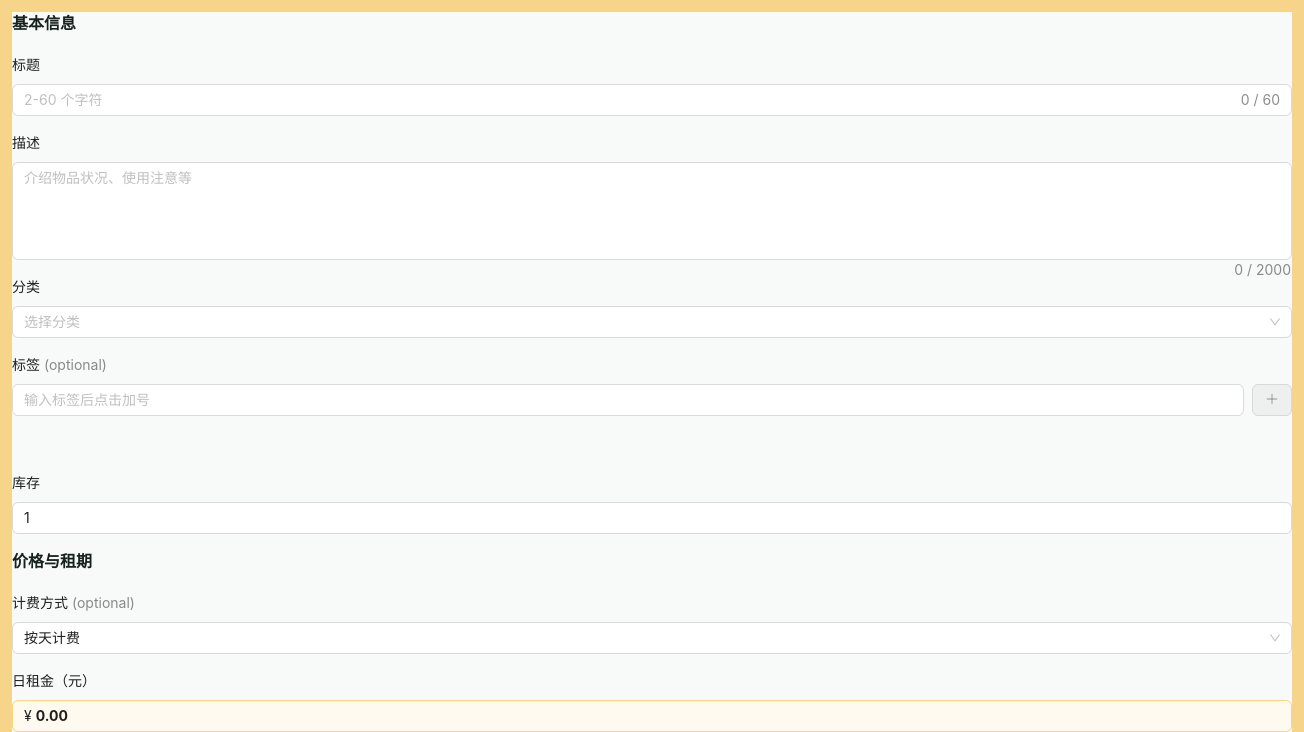
Test: ItemForm › shows status=0 categories as selectable and hides status=1 categories
Click the dropdown labelled "分类" at x=33, y=287, box [12, 276, 54, 298]
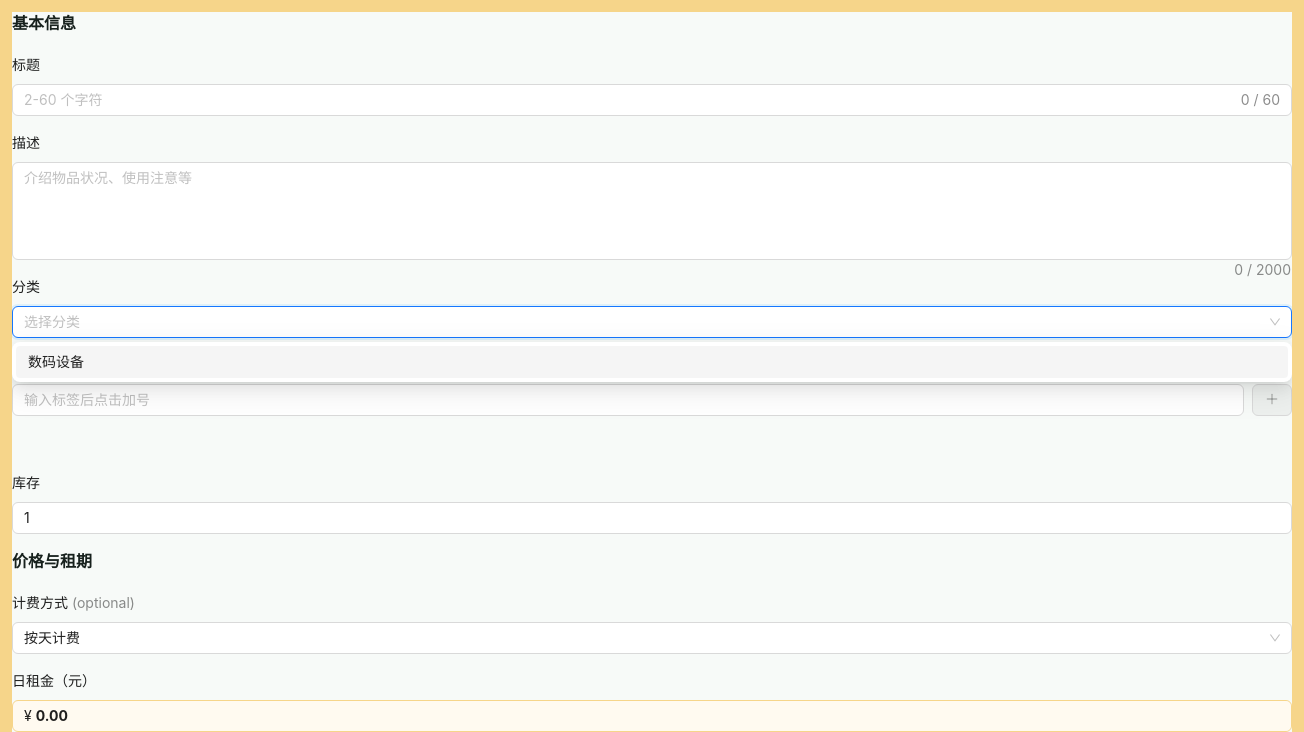
Result: the text "数码设备" is shown at [28, 353, 84, 370]
